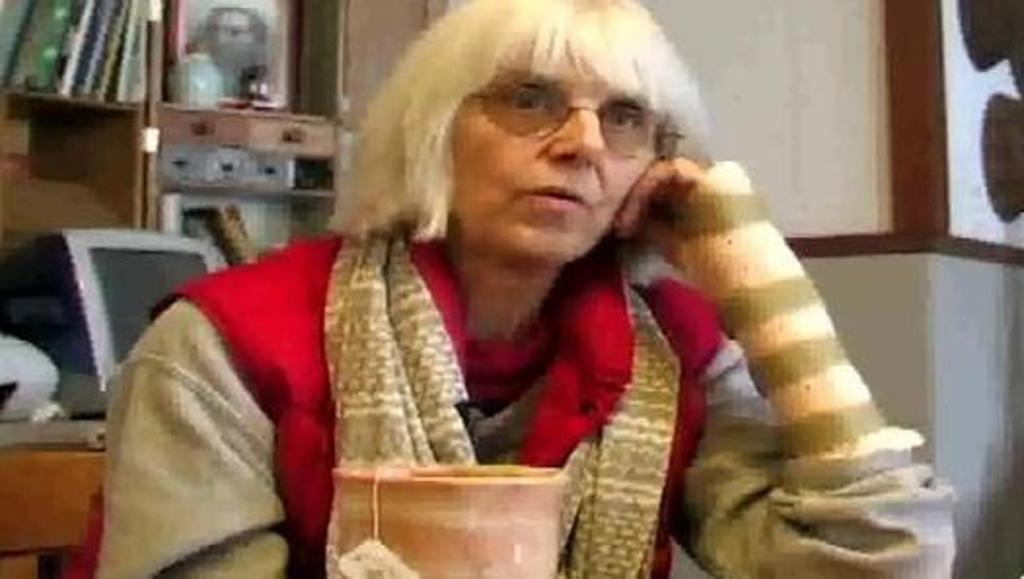face: (457, 21, 661, 263)
